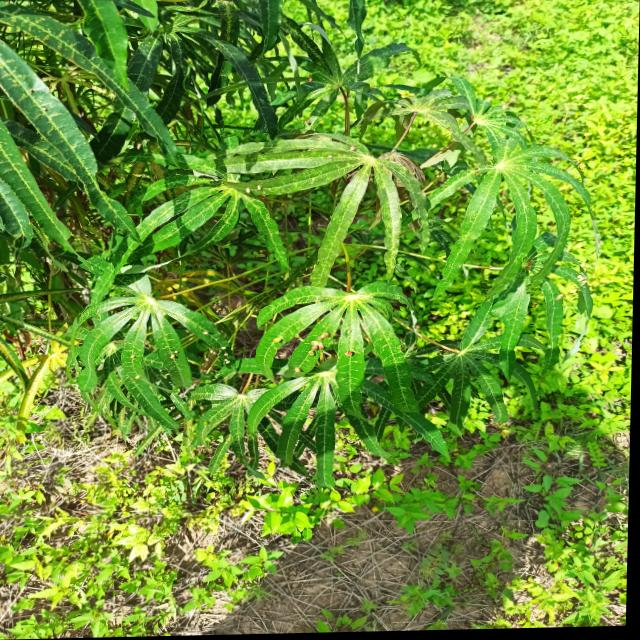Maleza: (0, 483, 266, 603), (506, 476, 631, 621), (508, 3, 640, 107)
Mosca: (26, 79, 45, 100), (307, 339, 325, 360), (167, 347, 185, 367), (344, 346, 358, 367), (267, 332, 284, 349), (245, 184, 268, 195), (345, 140, 359, 154), (127, 352, 143, 363), (320, 324, 330, 341), (132, 371, 144, 385), (292, 363, 301, 373)
